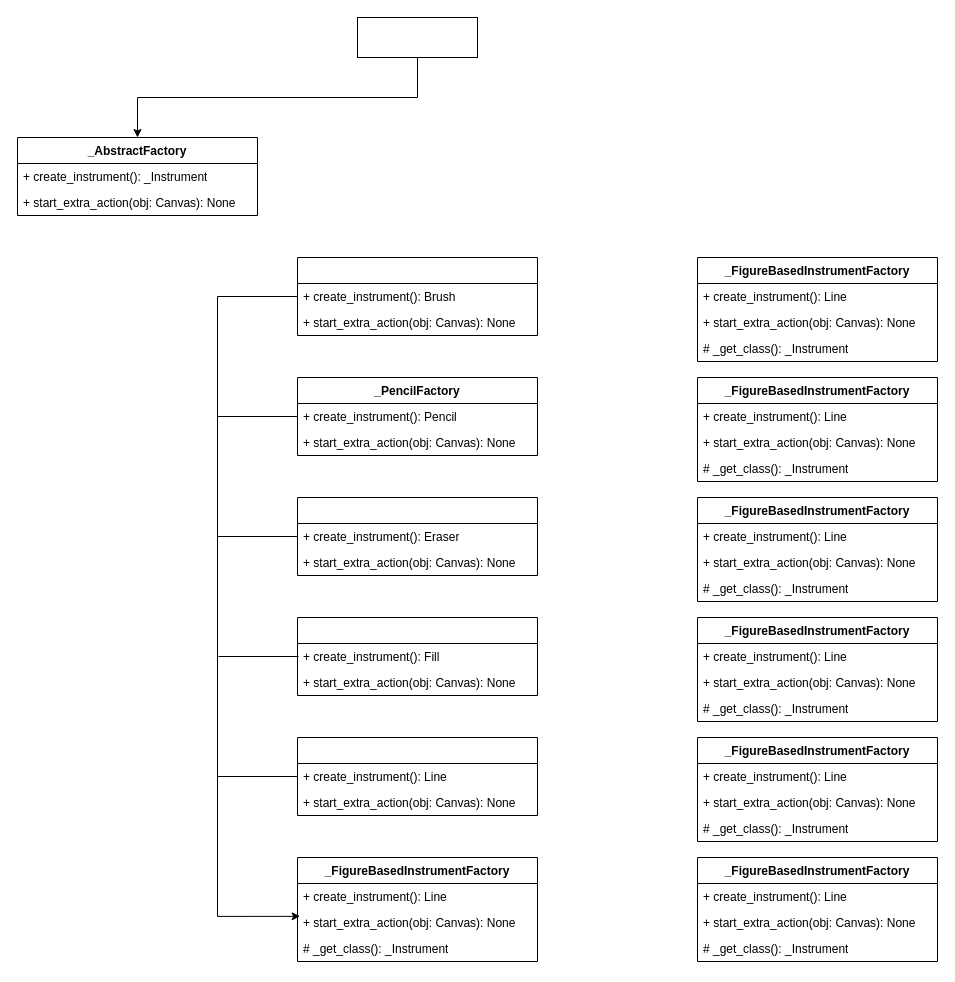
Some shapes in this 955 by 982 pixel diagram are drawn without their labels. The shapes that lost their labels are listed below. From the top down, each one's box as (x1, y1, x2, y2) in pixels, then its label:
(356, 16, 478, 58): Пользователь
(296, 256, 538, 336): _BrushFactory
(296, 496, 538, 576): _EraserFactory
(296, 616, 538, 696): _FillFactory
(296, 736, 538, 816): _LineFactory
